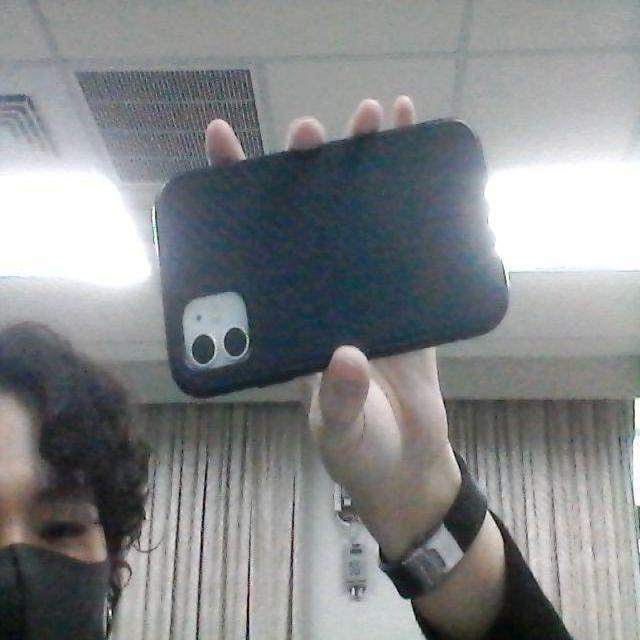earphone: (138, 109, 532, 404)
